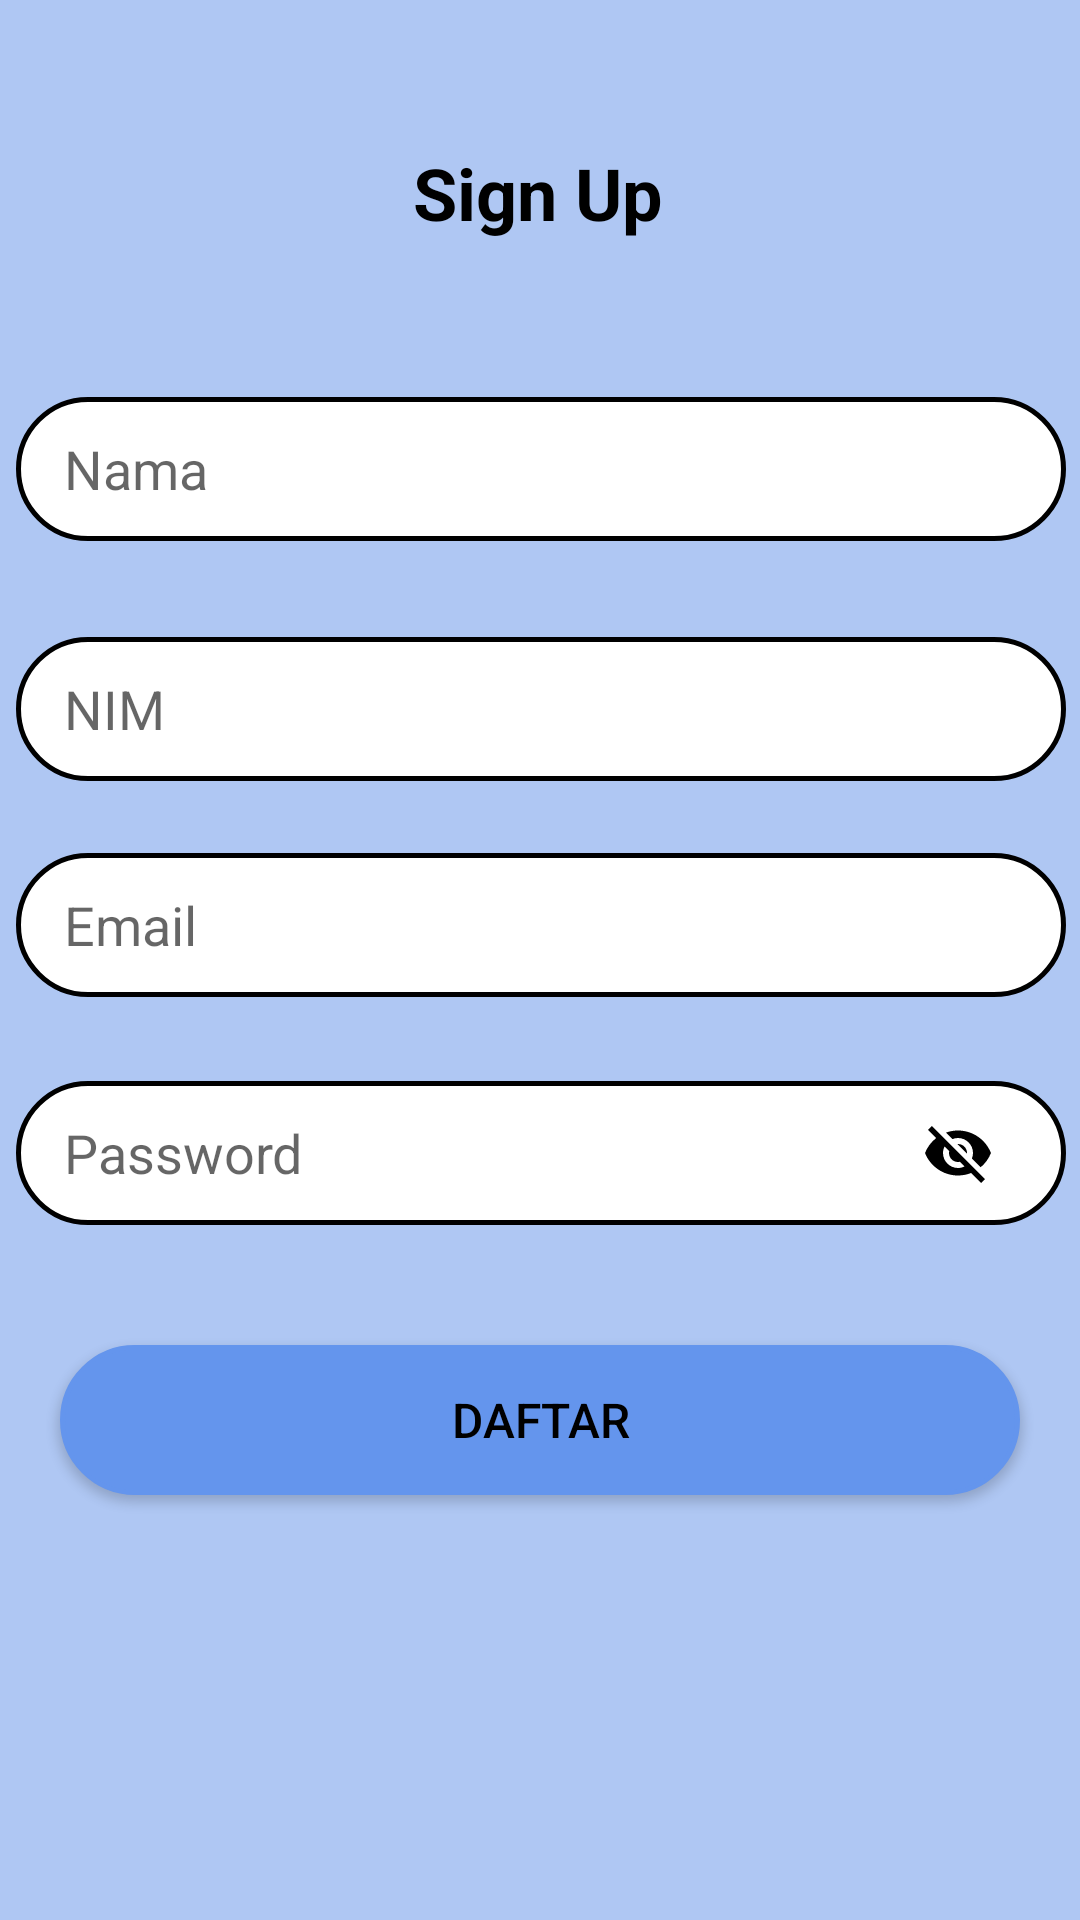

Where to tap for icons on this 1080w x 1920h app screen, as (x,y):
visibility of: (958,1154)
